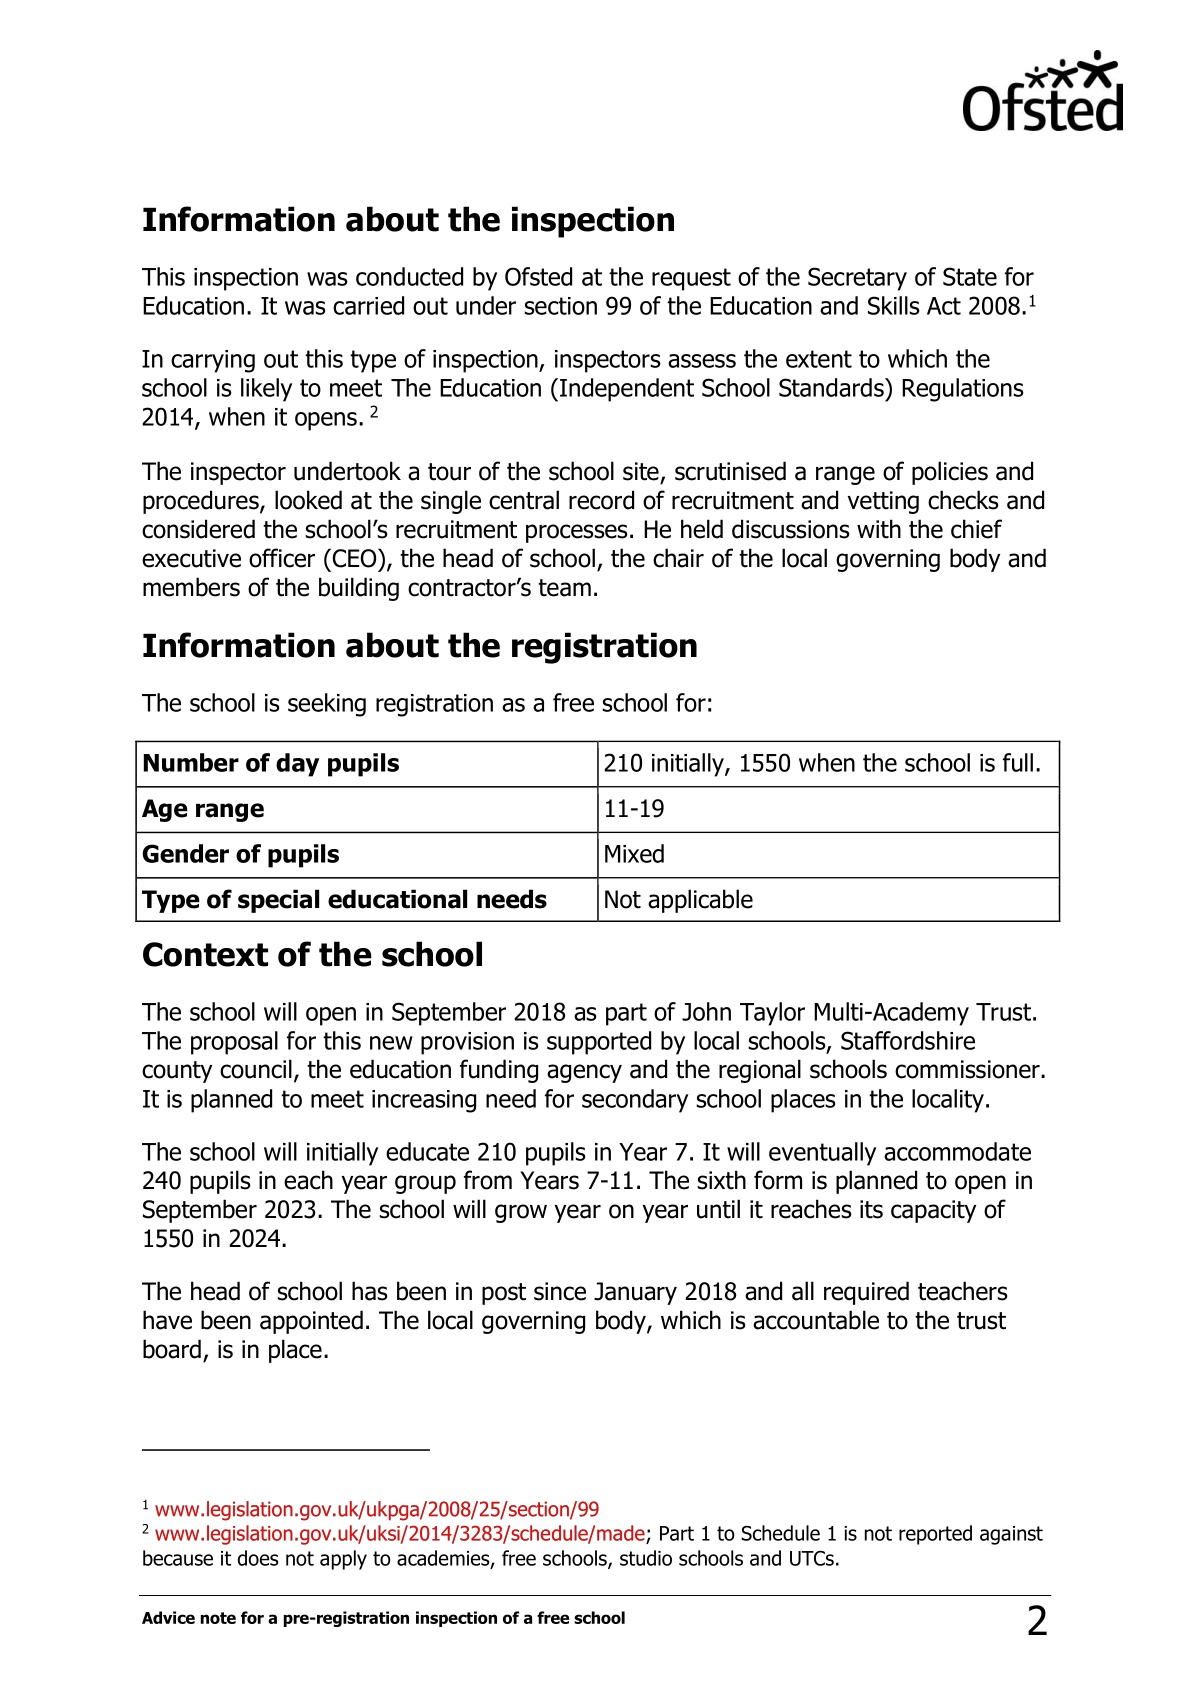full_lined: (135, 740, 1061, 923)
